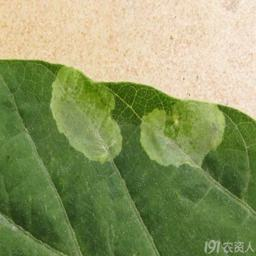liriomyza: (48, 65, 123, 165), (139, 99, 225, 169)
